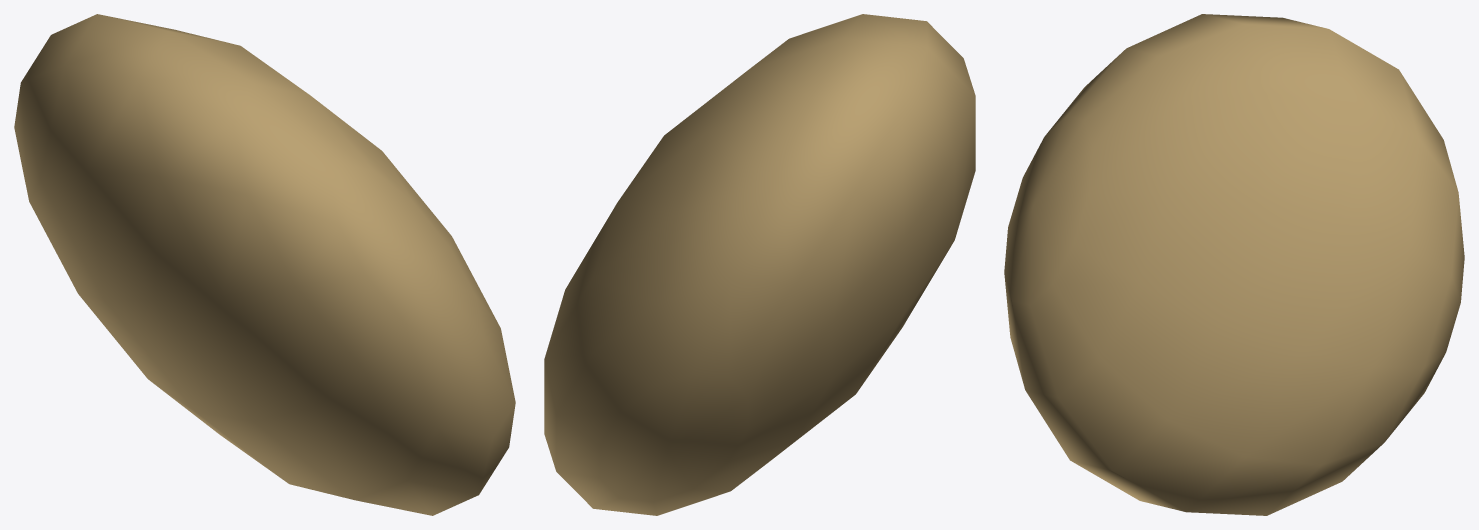
3 views of the same model, side by side, from view 1: azimuth 30°, elevation 25°; view 2: azimuth 150°, elevation 25°; view 3: azimuth 270°, elevation 25° (orthographic). The views are drawn at different scales.
Parts seen in each view (by area): view 1: 右侧腭扁桃体; view 2: 右侧腭扁桃体; view 3: 右侧腭扁桃体.
Part boxes in pixels (x1=…): 右侧腭扁桃体: x1=14, y1=14, x2=515, y2=515; 右侧腭扁桃体: x1=544, y1=14, x2=975, y2=515; 右侧腭扁桃体: x1=1004, y1=14, x2=1464, y2=515.
Size of the model in its own units: 0.0111 by 0.0143 by 0.0146.
